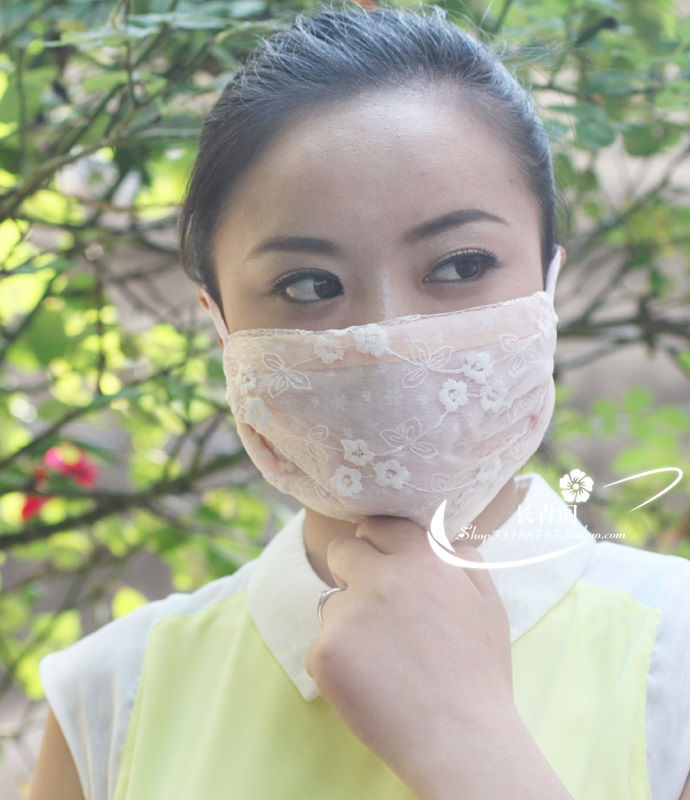face_mask: (225, 102, 559, 537)
